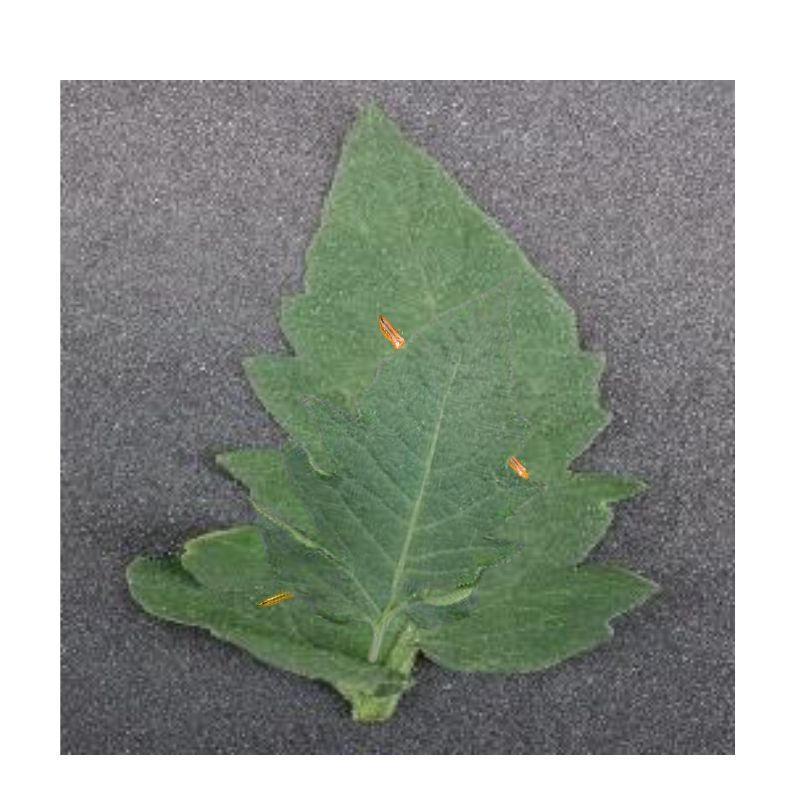thrips: (376, 311, 407, 350), (255, 587, 295, 608), (504, 453, 532, 479)
